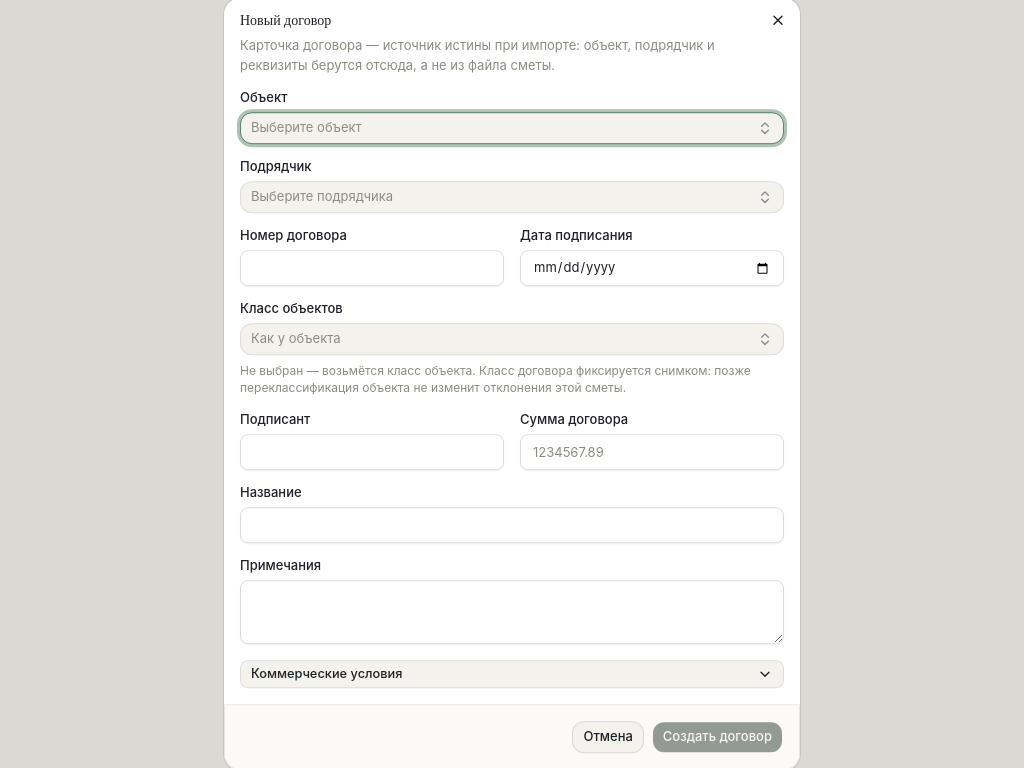
Scenario: Форма договора: поиск объекта и подрядчика › запрос уходит на сервер и список сужается
The width and height of the screenshot is (1024, 768).
Click the dropdown labelled "Выберите объект".
click(306, 127)  # box [240, 112, 784, 144]
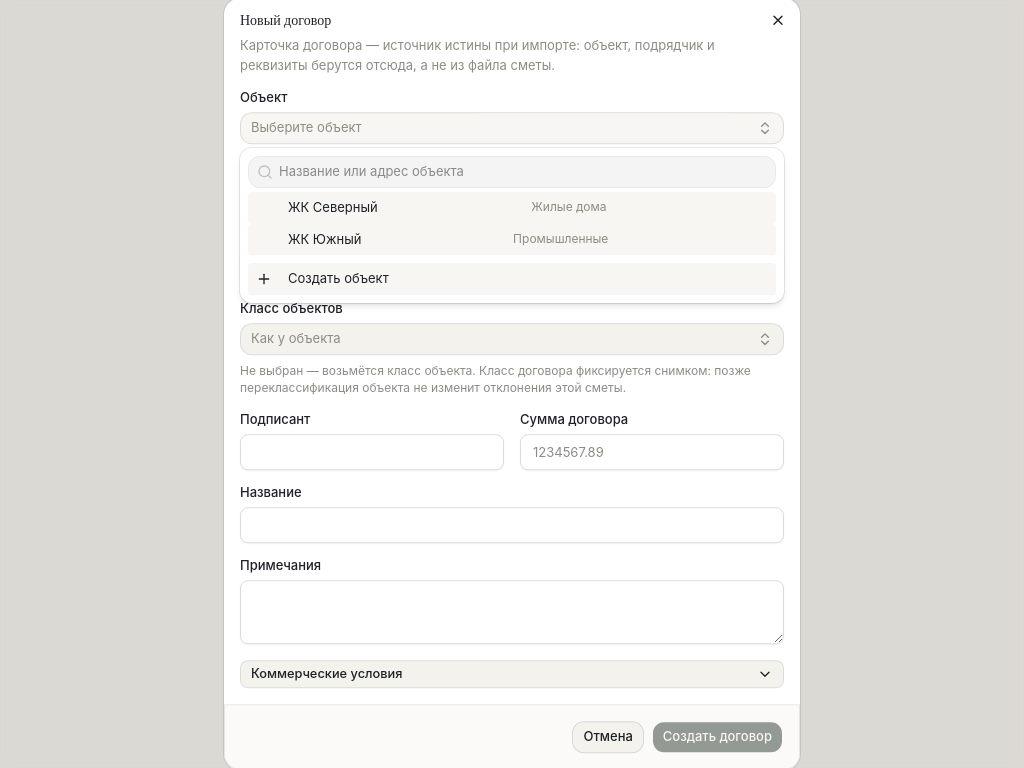
Check: the text "ЖК Северный" is shown, box [288, 198, 378, 218]
Check: the text "ЖК Южный" is shown, box [288, 230, 362, 249]
Type "Южный" into the dropdown with placeholder "Название или адрес объекта".
click(524, 172); type("Южный")  # box [273, 162, 775, 182]
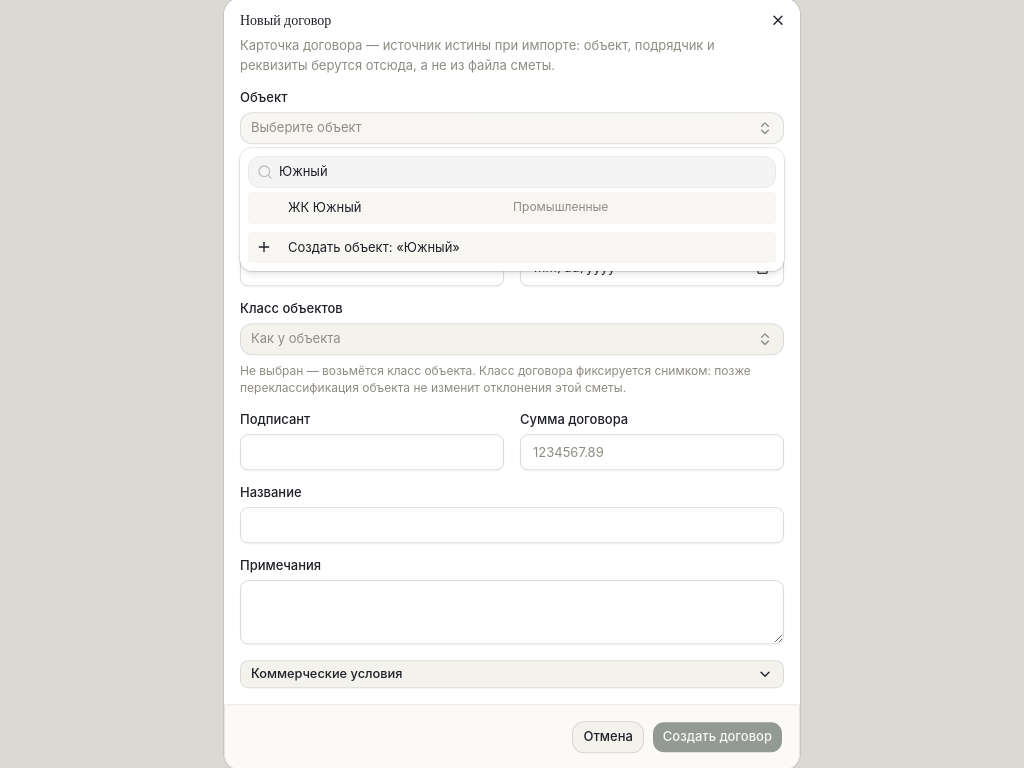
Check: the text "ЖК Южный" is shown, box [288, 198, 362, 218]
Check: the option "ЖК Северный" is gone
